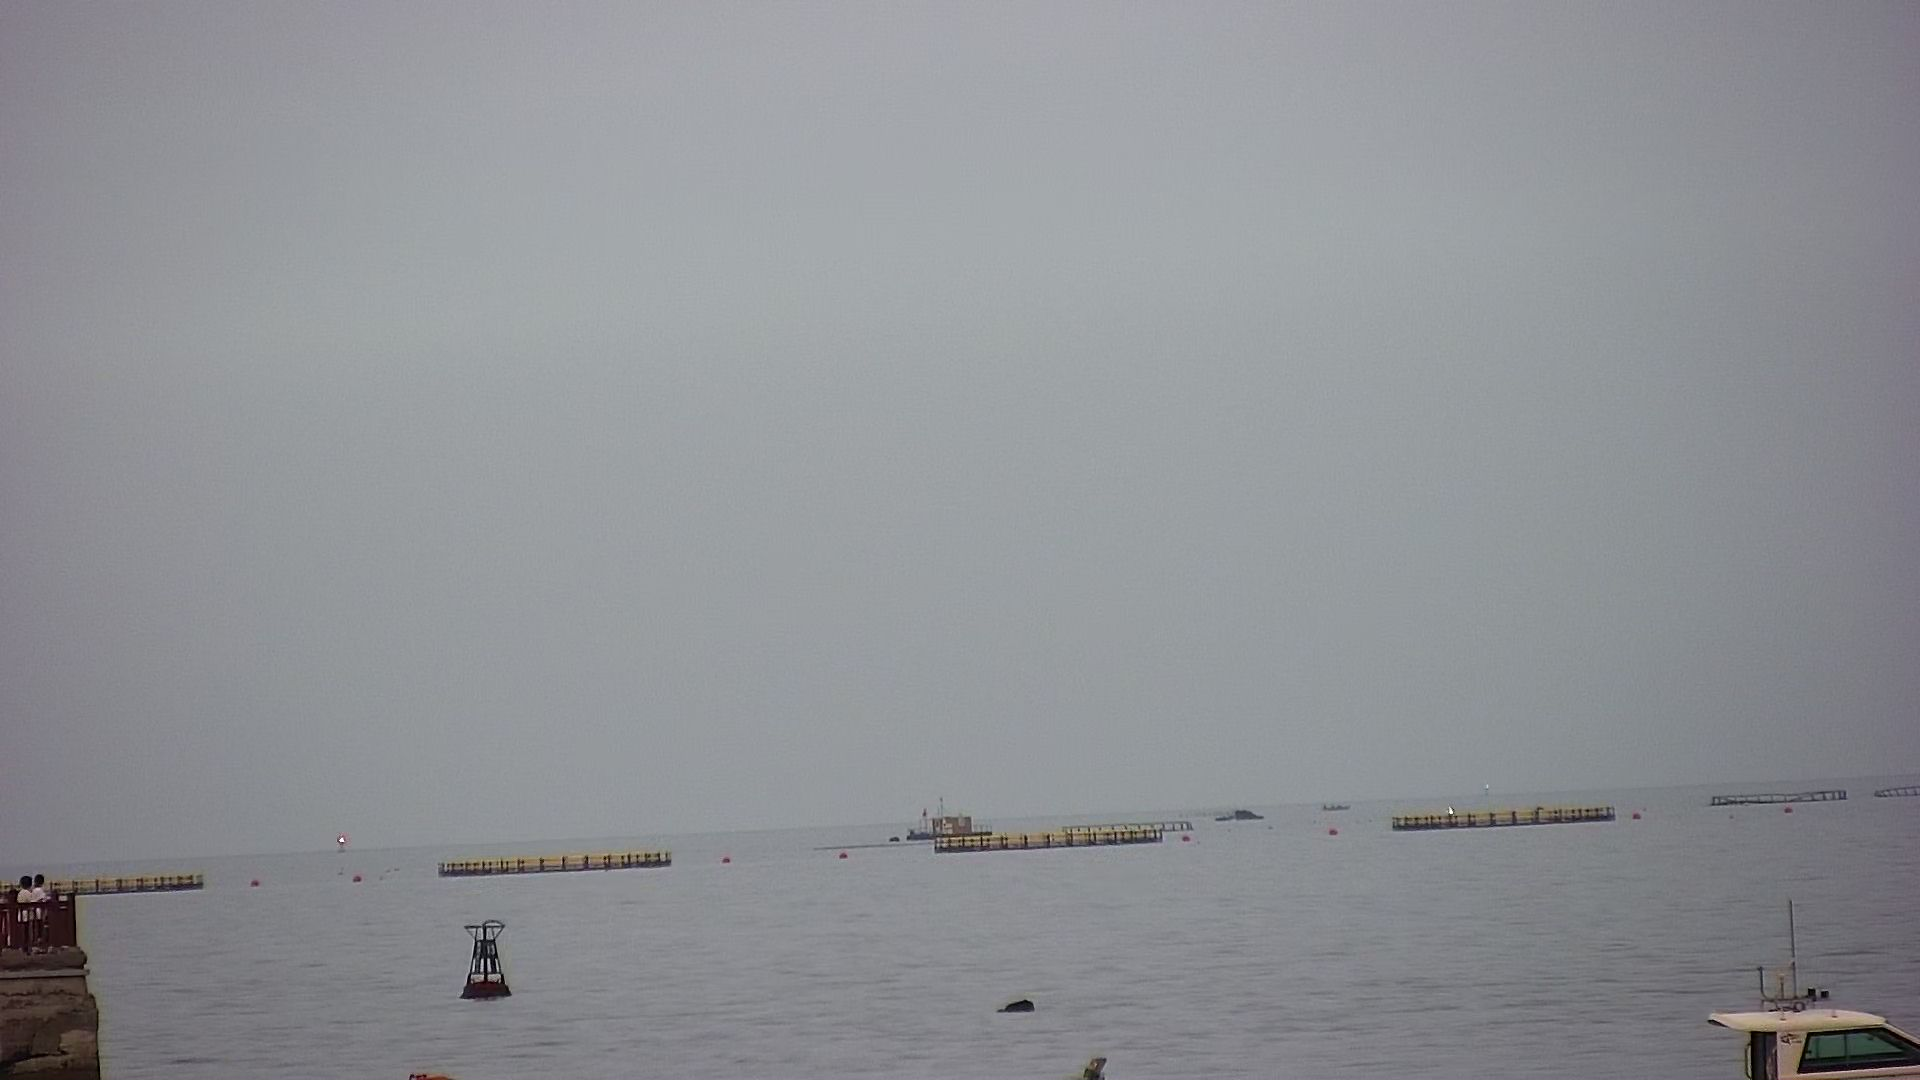buoy: (450, 913, 518, 1004)
platform: (906, 800, 1168, 855), (1, 847, 204, 909), (435, 844, 686, 878), (1394, 807, 1621, 825)
rubbish: (986, 984, 1044, 1015)
